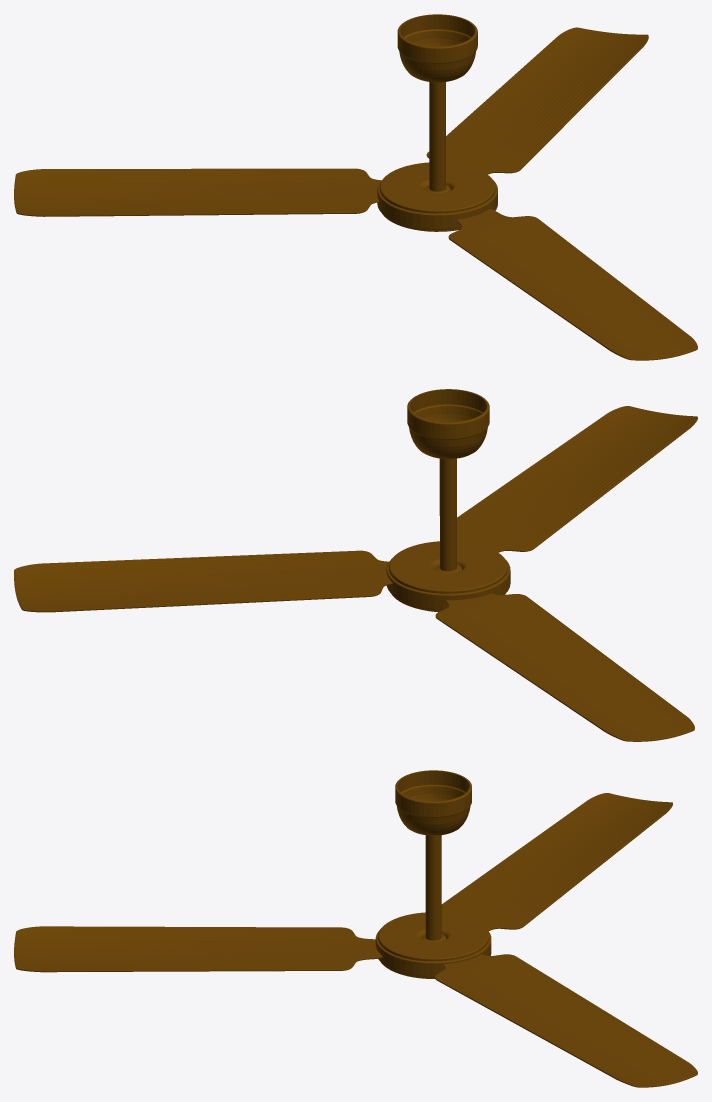
The model's file is fan.dae.
3 views of the same model, one above another, from view 1: azimuth 30°, elevation 25°; view 2: azimuth 150°, elevation 25°; view 3: azimuth 270°, elevation 25° (orthographic). The views are drawn at different scales.
Visible parts, largest first — view 1: wing1, wing2, wing, base; view 2: wing, wing1, wing2, base; view 3: wing2, wing, wing1, base.
Part boxes in pixels (x1=…): wing1: x1=14, y1=168, x2=381, y2=216; wing2: x1=448, y1=209, x2=697, y2=360; wing: x1=426, y1=27, x2=648, y2=174; base: x1=377, y1=14, x2=497, y2=231; wing: x1=14, y1=550, x2=392, y2=612; wing1: x1=435, y1=593, x2=694, y2=741; wing2: x1=457, y1=406, x2=697, y2=552; base: x1=386, y1=389, x2=510, y2=612; wing2: x1=14, y1=926, x2=382, y2=972; wing: x1=435, y1=954, x2=697, y2=1087; wing1: x1=441, y1=793, x2=672, y2=930; base: x1=375, y1=770, x2=491, y2=978.
Size of the model in its own units: 8.19 by 7.83 by 2.18.
